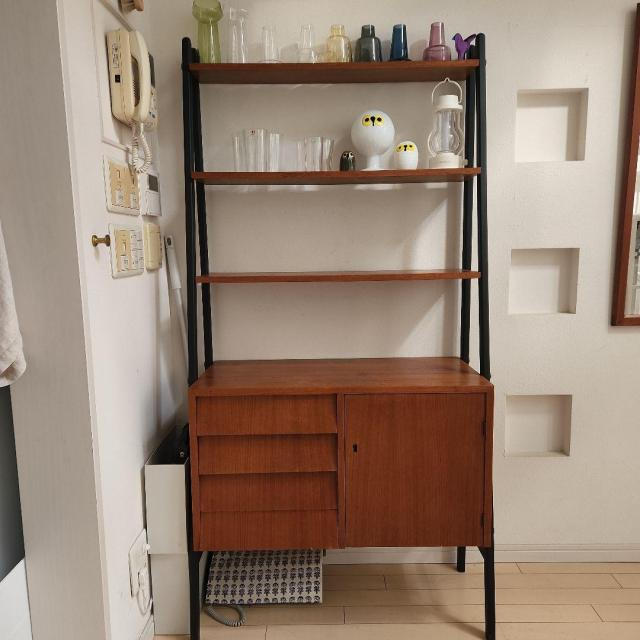vintage shelf: (174, 34, 502, 640)
